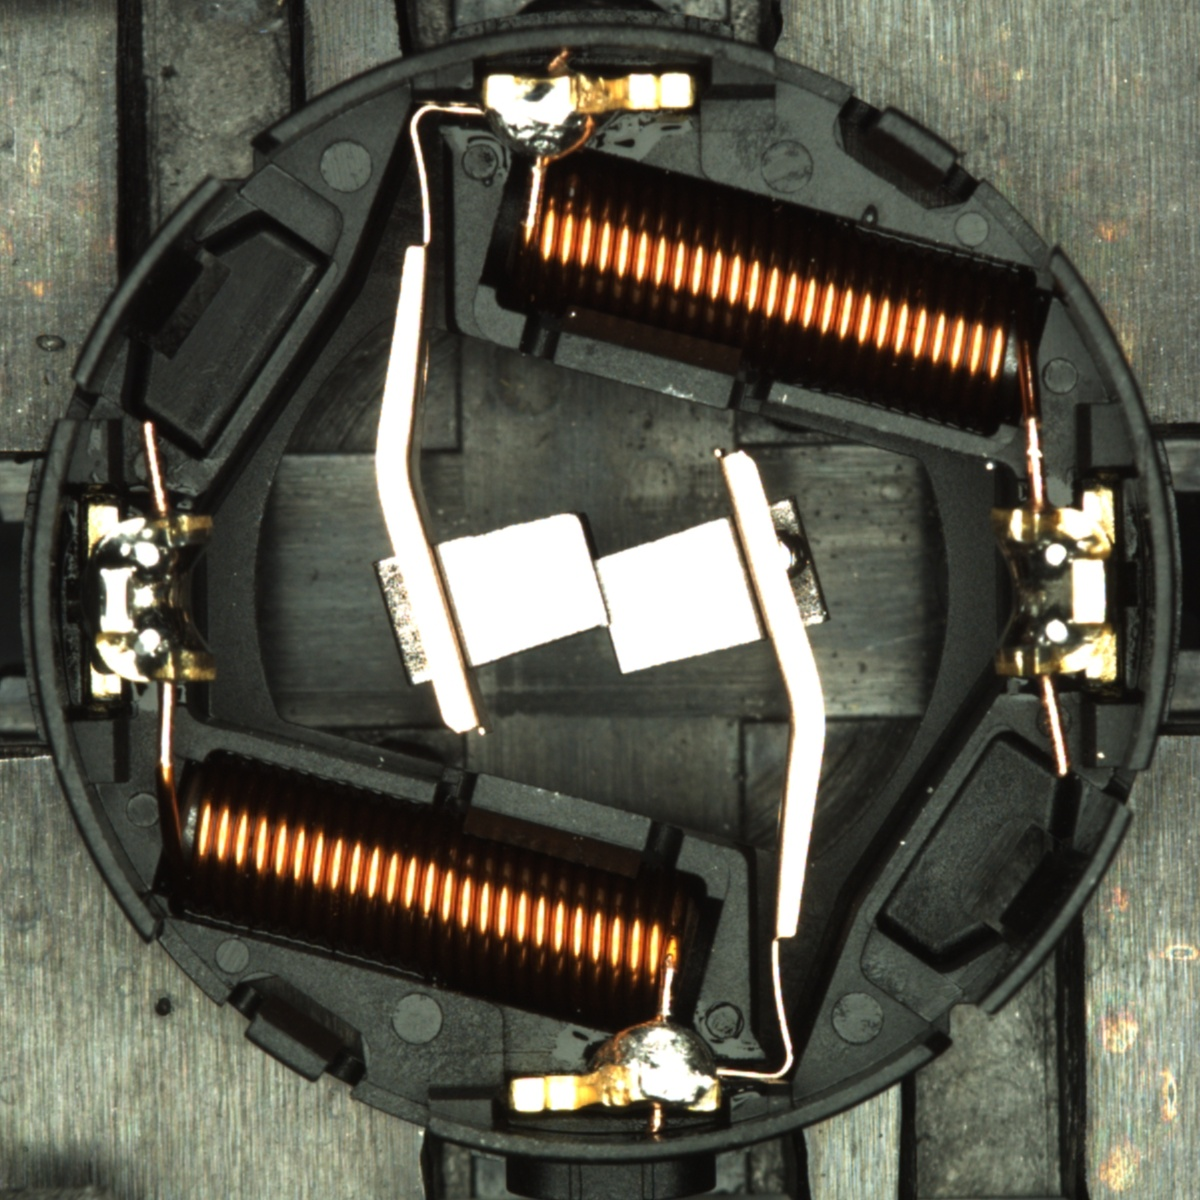1: (258, 55, 487, 279), (716, 953, 945, 1177)
2: (716, 55, 945, 279), (258, 953, 487, 1177)
3: (29, 279, 258, 503), (945, 729, 1175, 953)
4: (258, 279, 487, 503), (716, 729, 945, 953)
5: (487, 167, 716, 391), (487, 841, 716, 1065)
6: (716, 279, 945, 503), (258, 729, 487, 953)
7: (945, 279, 1175, 503), (29, 729, 258, 953)
chau_dien: (81, 497, 220, 699), (986, 489, 1124, 687)
hat_chi: (774, 527, 812, 581)
tay_choi: (481, 69, 699, 169), (509, 1014, 722, 1115)
thanh_de: (954, 787, 1141, 1031), (58, 163, 245, 405)
